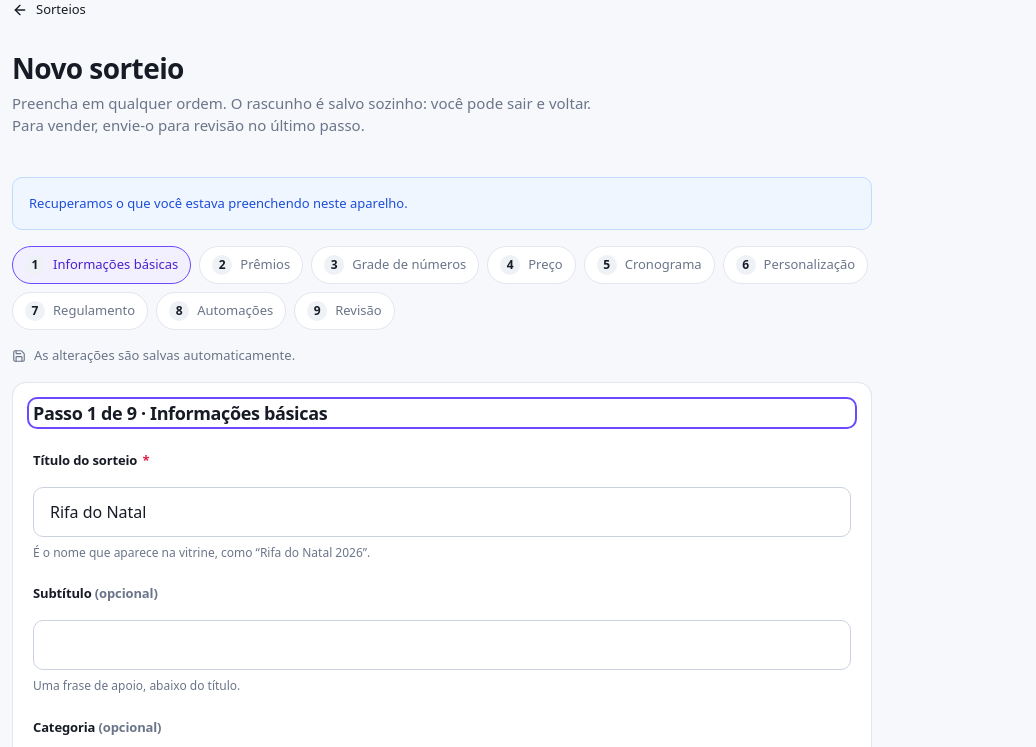
Test: revisao e envio › sem permissao de ciclo de vida, o botao de envio e explicado e desabilitado
Click the button "9 Revisão": (344, 311) 294,292 -> 395,330
(page scrolled)
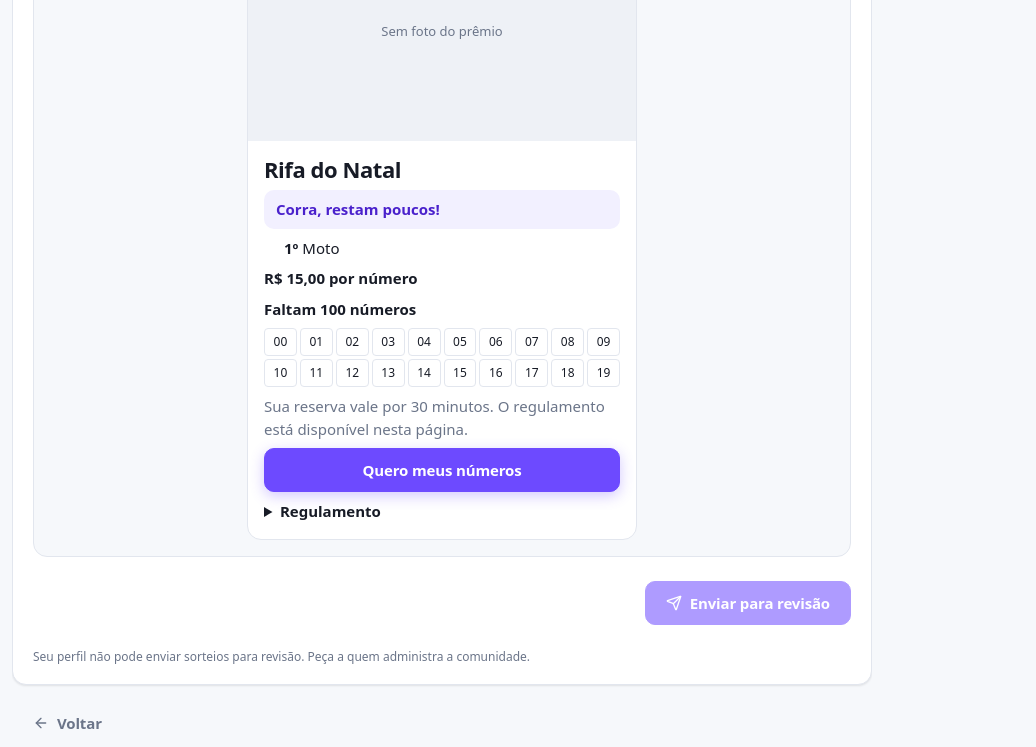
Check: the button "Enviar para revisão" is disabled, box 645,581 -> 851,625
Check: the text "Seu perfil não pode enviar sorteios para revisão" is shown, box 33,648 -> 530,665
